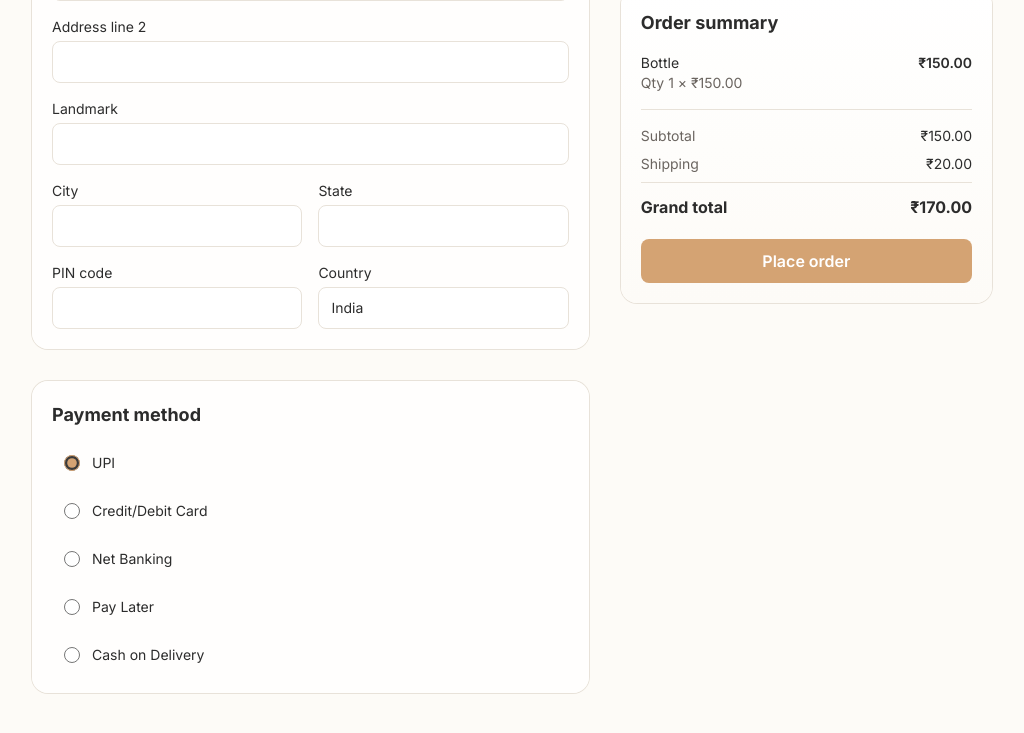
Scenario: Checkout UI › COD summary shows shipping and COD fee; grand total updates
(page scrolled)
Click the radio button labelled "Cash on Delivery". click: (72, 655)
box: [64,647,80,663]
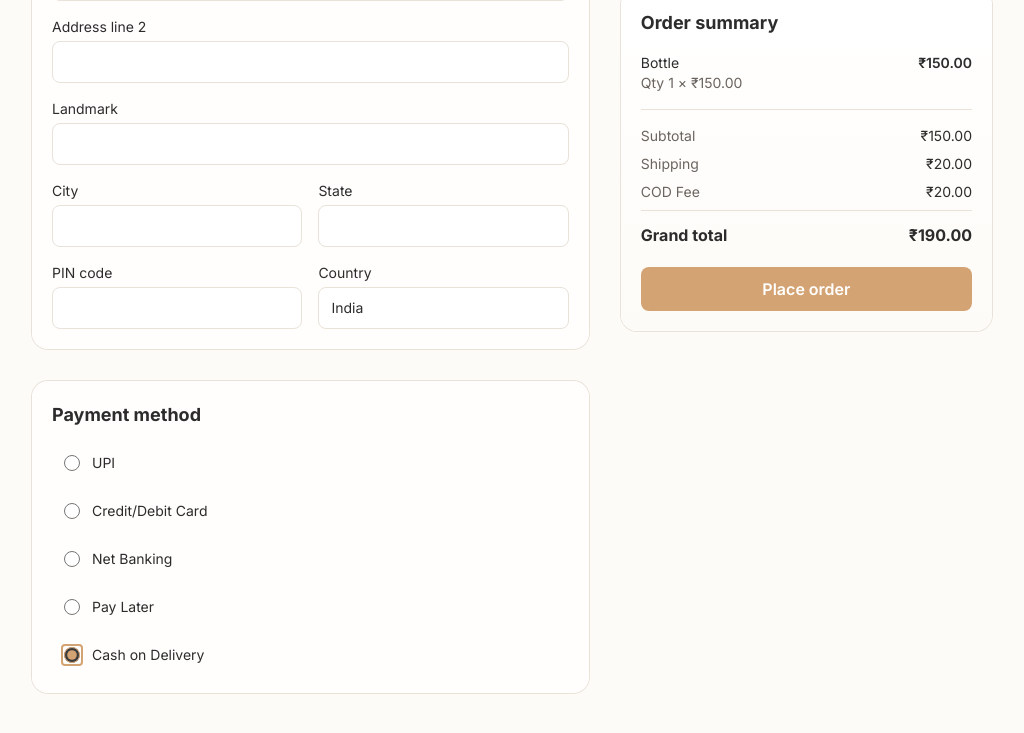
Now the text "COD Fee" is shown, box [641,182,700,202]
Now the text "₹190.00" is shown, box [909,223,972,247]
